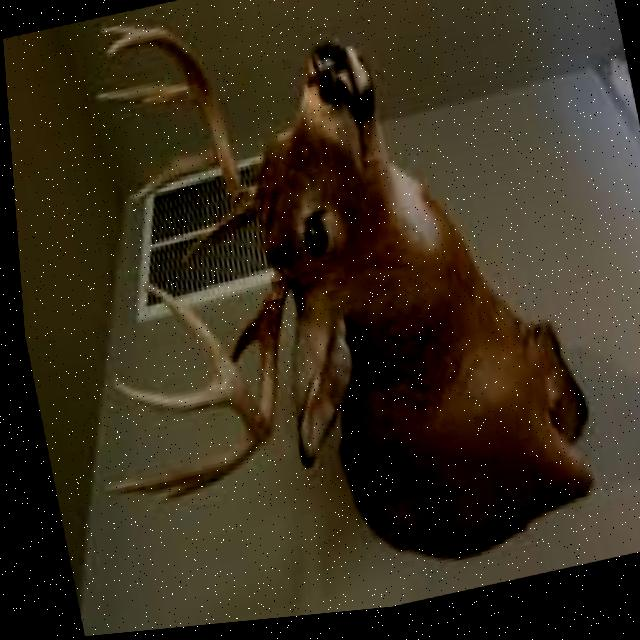E1: (96, 23, 135, 38)
L-G1: (178, 213, 243, 266)
L-G2: (123, 151, 215, 201)
L-G3: (92, 81, 195, 108)
R-F: (139, 269, 288, 451)
R-G1: (223, 313, 256, 368)
R-G3: (93, 430, 251, 497)
R-G4: (106, 374, 223, 417)
